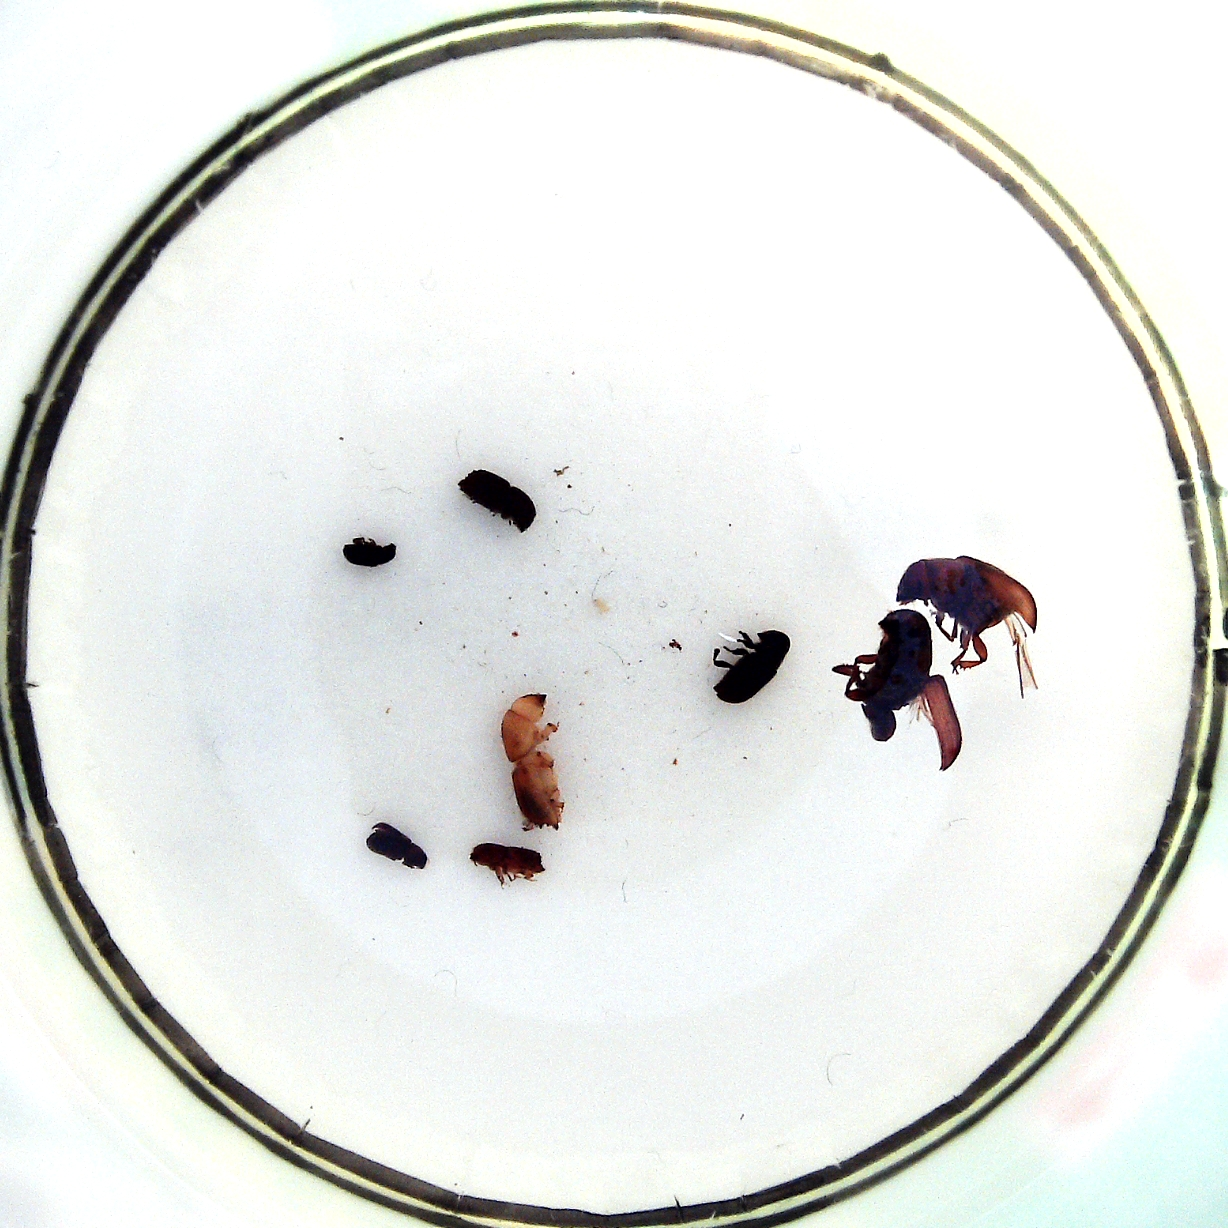Boerner: (502, 693, 565, 831)
Leconte: (896, 556, 1037, 670), (846, 608, 933, 742)
acuminatus: (365, 820, 426, 870), (342, 535, 396, 568)
armandi: (713, 630, 789, 703)
coleoptera: (469, 843, 544, 884)
linnaeus: (457, 468, 538, 533)
